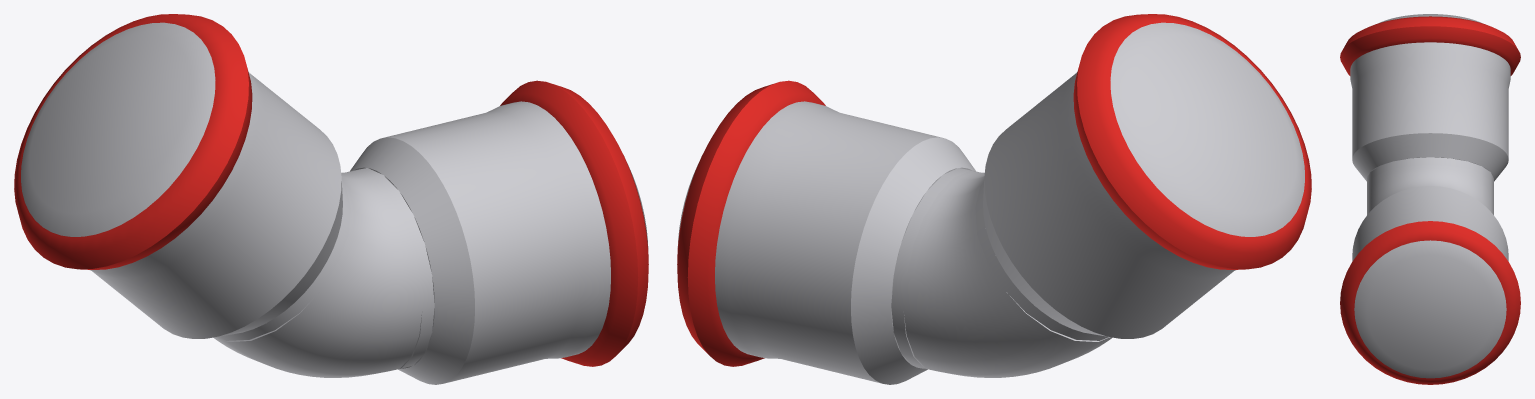
The model's file is fitting_e45_22_r.glb.
3 renders of one model, left to right at view 1: azimuth 30°, elevation 25°; view 2: azimuth 150°, elevation 25°; view 3: azimuth 270°, elevation 25°, orthographic. The views are drawn at different scales.
Visible parts, largest first — view 1: раструб.001, раструб, изгиб, кольцо пресс.001, кольцо пресс, корпус, корпус.001; view 2: раструб.001, раструб, изгиб, кольцо пресс.001, кольцо пресс, корпус, корпус.001; view 3: раструб, раструб.001, кольцо пресс, кольцо пресс.001, изгиб, корпус.001.
Boxes of the visible parts, x1=… form: раструб.001: x1=21, y1=22, x2=342, y2=338; раструб: x1=350, y1=101, x2=648, y2=384; изгиб: x1=213, y1=170, x2=422, y2=377; кольцо пресс.001: x1=14, y1=14, x2=252, y2=269; кольцо пресс: x1=500, y1=80, x2=648, y2=366; корпус: x1=345, y1=168, x2=434, y2=368; корпус.001: x1=217, y1=182, x2=350, y2=340; раструб.001: x1=983, y1=22, x2=1304, y2=338; раструб: x1=677, y1=101, x2=975, y2=384; изгиб: x1=903, y1=170, x2=1112, y2=377; кольцо пресс.001: x1=1073, y1=14, x2=1311, y2=269; кольцо пресс: x1=677, y1=80, x2=825, y2=366; корпус: x1=891, y1=168, x2=980, y2=368; корпус.001: x1=975, y1=182, x2=1108, y2=340; раструб: x1=1352, y1=186, x2=1508, y2=378; раструб.001: x1=1350, y1=14, x2=1510, y2=181; кольцо пресс: x1=1340, y1=221, x2=1520, y2=384; кольцо пресс.001: x1=1340, y1=16, x2=1520, y2=75; изгиб: x1=1367, y1=165, x2=1493, y2=214; корпус.001: x1=1367, y1=157, x2=1493, y2=186.
Size of the model in its own units: 0.0784 by 0.0562 by 0.0356.
